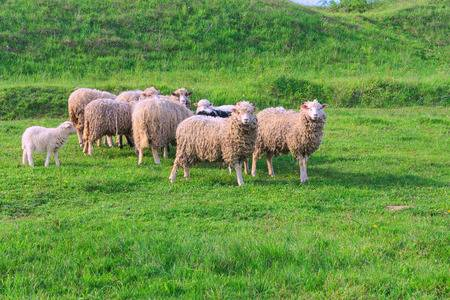sheep: (175, 100, 259, 193), (257, 94, 328, 185), (127, 96, 188, 163), (19, 118, 78, 172), (85, 99, 134, 156)
